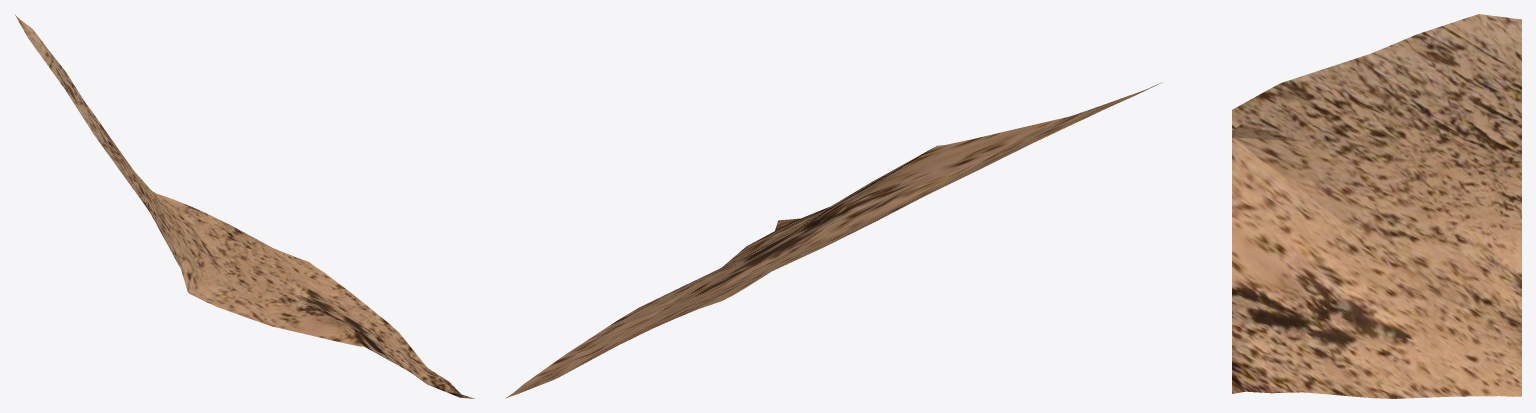
The picture shows the model from 3 angles, left to right: view 1: azimuth 30°, elevation 25°; view 2: azimuth 150°, elevation 25°; view 3: azimuth 270°, elevation 25°; orthographic projection. The views are drawn at different scales.
Bounding box in the file's own units: 1.04 × 1.04 × 1.04.
Materials: 3 (3 with a texture image).
